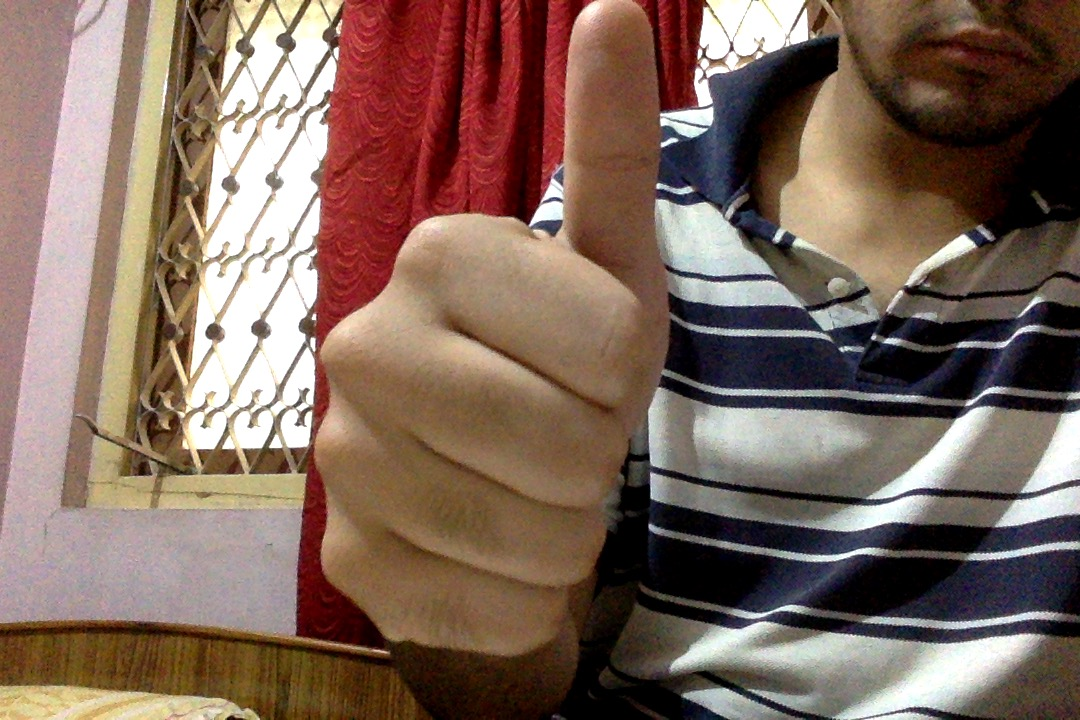hand: (252, 25, 768, 656), (223, 1, 278, 66)
